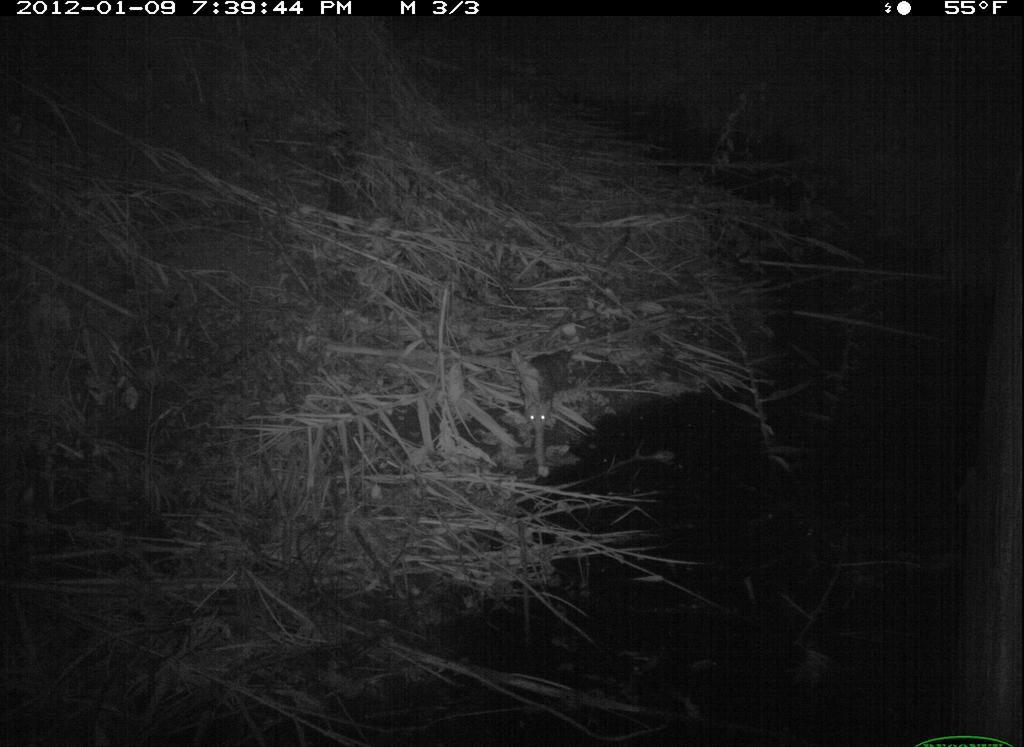opossum: (511, 338, 591, 450)
